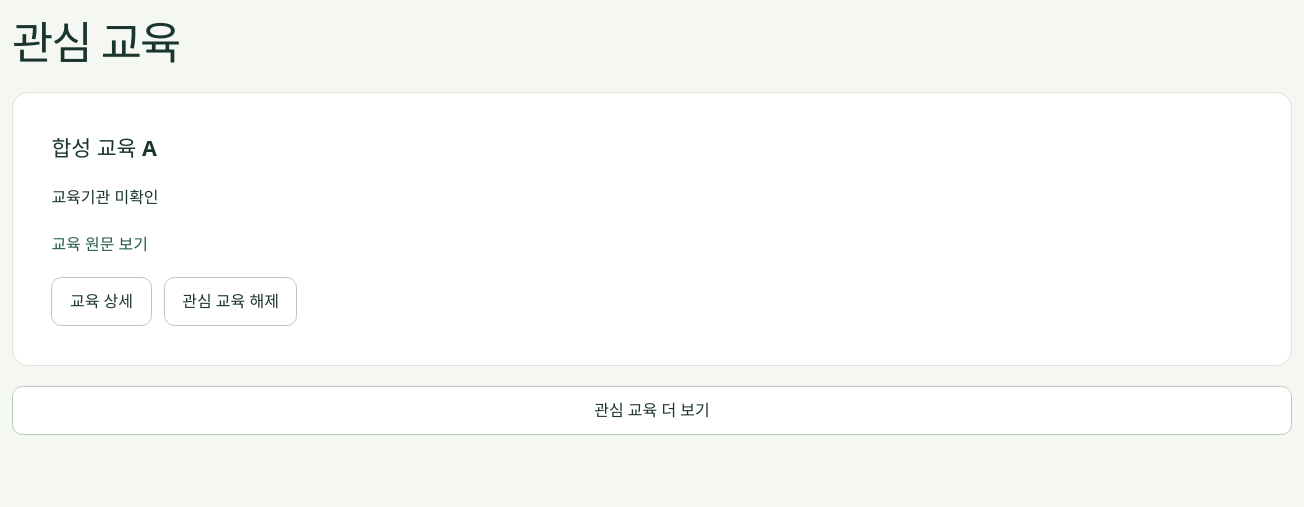
해제는 다음 페이지 실패 상태에서도 첫 페이지부터 새로 조회한다
This screenshot has width=1304, height=507.
What coordinates should you click on to do the following:
click the button "관심 교육 더 보기"
I would click on:
 (652, 410)
Its box is [12,386,1292,435].
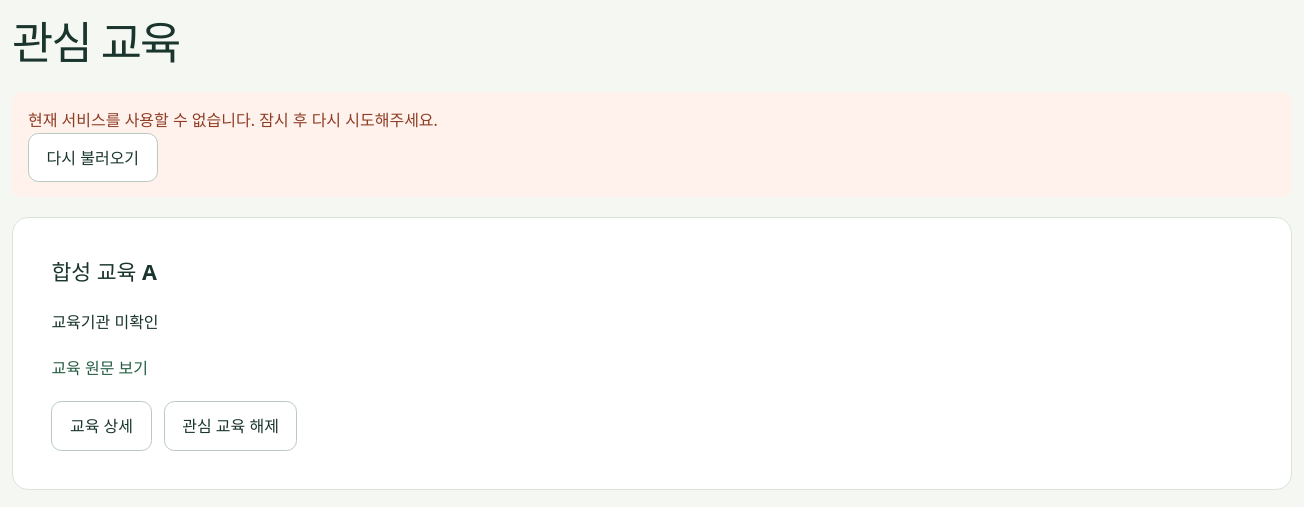
Now the message "현재 서비스를 사용할 수 없습니다. 잠시 후 다시 시도해주세요. 다시 불러오기" is shown, box [12,92,1292,197]
What coordinates should you click on to do the following:
click the button with aria-label "합성 교육 A 관심 교육 해제"
I would click on:
 (230, 426)
Its box is [164,401,297,451].
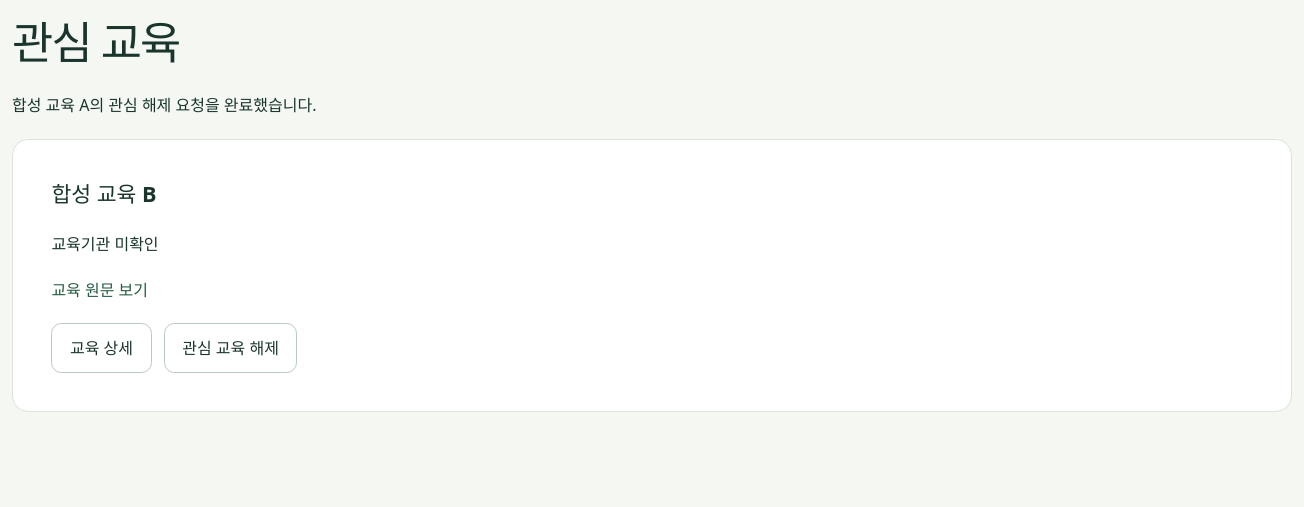
Now the heading "합성 교육 B" is shown, box [51,179,157,208]
